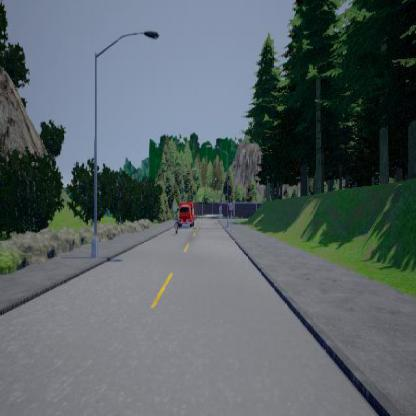traffic_sign_30: (227, 202, 234, 210)
vehicle: (178, 201, 194, 228)
